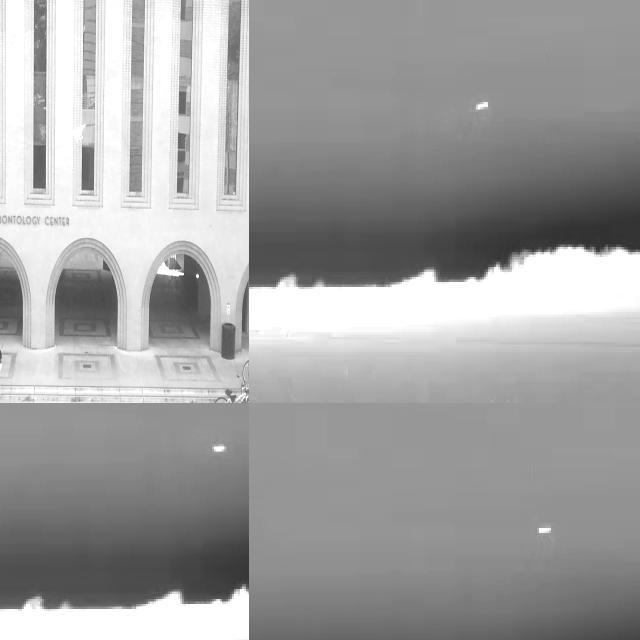1: (465, 93, 499, 126), (202, 436, 236, 466), (527, 519, 561, 549)
drone: (69, 117, 87, 145)
